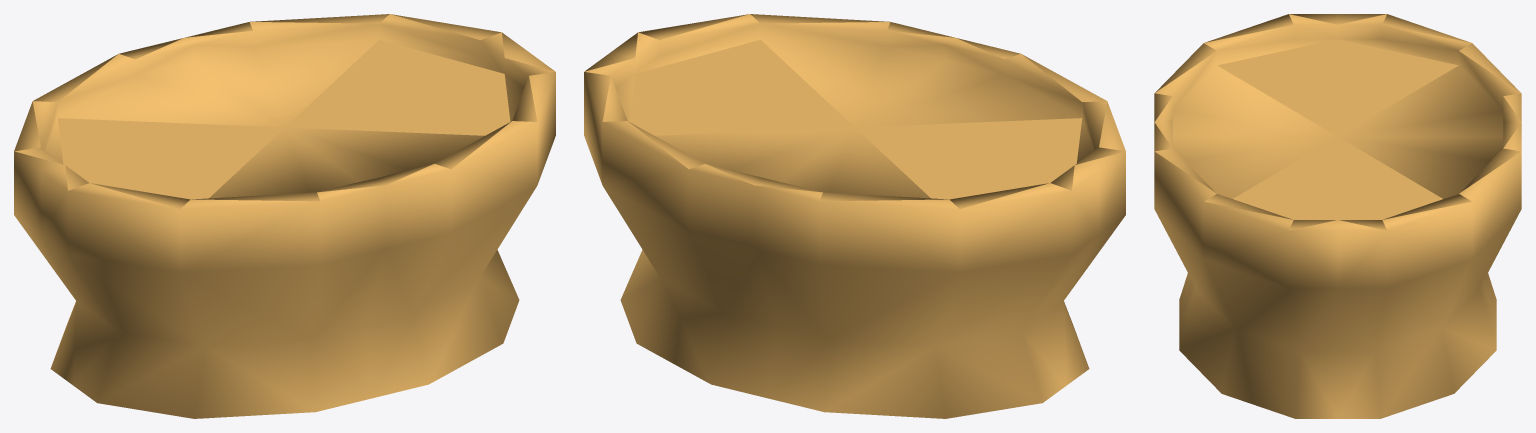
File: mesh140__fd90de3d_57ee_5043_bc21_c10859deb2c4__0_lev1.glb
3 views of the same model, side by side, from view 1: azimuth 30°, elevation 25°; view 2: azimuth 150°, elevation 25°; view 3: azimuth 270°, elevation 25° (orthographic). The views are drawn at different scales.
Visible parts, largest first — view 1: mesh140__fd90de3d_57ee_5043_bc21_c10859deb2c4__0_lev1; view 2: mesh140__fd90de3d_57ee_5043_bc21_c10859deb2c4__0_lev1; view 3: mesh140__fd90de3d_57ee_5043_bc21_c10859deb2c4__0_lev1.
Part boxes in pixels (x1,y1,x2,y2): mesh140__fd90de3d_57ee_5043_bc21_c10859deb2c4__0_lev1: (14,14,555,418); mesh140__fd90de3d_57ee_5043_bc21_c10859deb2c4__0_lev1: (584,14,1125,418); mesh140__fd90de3d_57ee_5043_bc21_c10859deb2c4__0_lev1: (1154,14,1521,418).
Size of the model in its own units: 3.19 by 1.39 by 2.28.
